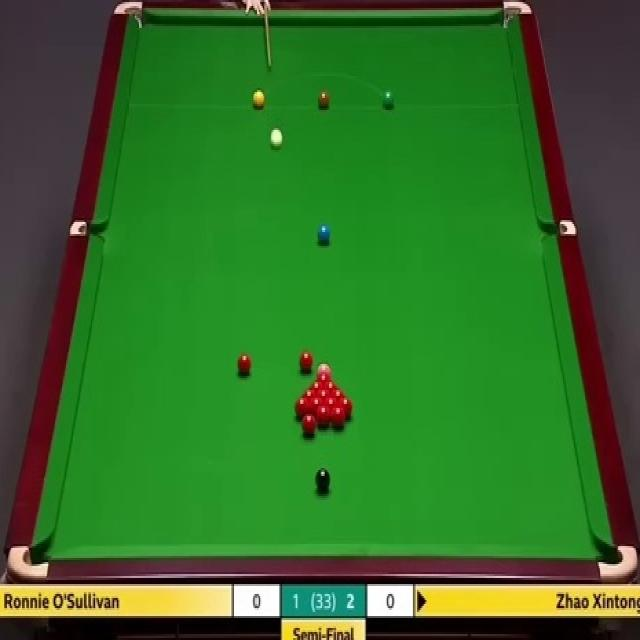black-ball: (315, 468, 331, 492)
blue-ball: (316, 223, 332, 246)
brown-ball: (318, 91, 330, 110)
green-ball: (382, 90, 394, 109)
pink-ball: (316, 362, 332, 374)
red-ball: (236, 353, 252, 377), (316, 406, 332, 429), (298, 352, 314, 375), (295, 398, 310, 421), (302, 414, 316, 438), (331, 406, 345, 430), (338, 398, 352, 418), (302, 389, 317, 402), (332, 388, 345, 402), (323, 398, 338, 410), (316, 390, 331, 402), (323, 382, 338, 394), (310, 398, 322, 412), (309, 381, 325, 390), (316, 373, 331, 382)
white-ball: (269, 126, 282, 146)
yellow-ball: (253, 88, 264, 110)
